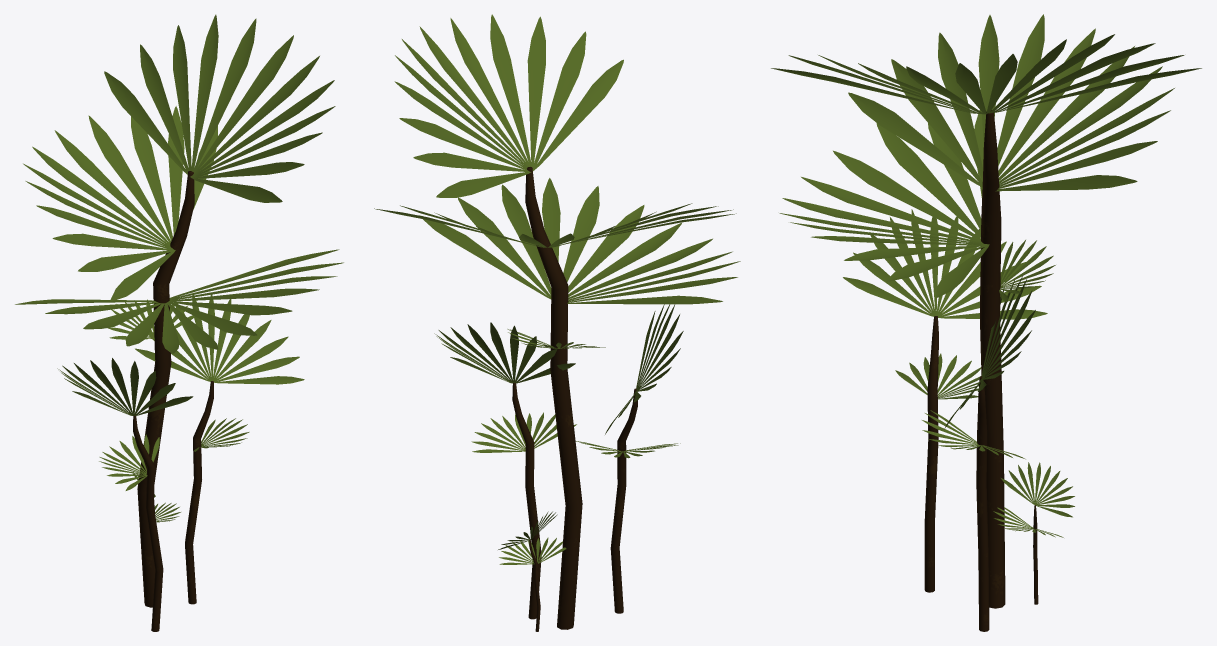
Rendered from Veg_PlantaMaceta7.fbx.
3 views of the same model, side by side, from view 1: azimuth 30°, elevation 25°; view 2: azimuth 150°, elevation 25°; view 3: azimuth 270°, elevation 25° (orthographic). The views are drawn at different scales.
Visible parts, largest first — view 1: Plane.011; view 2: Plane.011; view 3: Plane.011.
Boxes of the visible parts, <box> form: Plane.011: <box>15,14,343,631</box>; Plane.011: <box>374,14,740,631</box>; Plane.011: <box>771,14,1201,631</box>.
Bounding box in the file's own units: 36.04 × 35.84 × 59.64.
